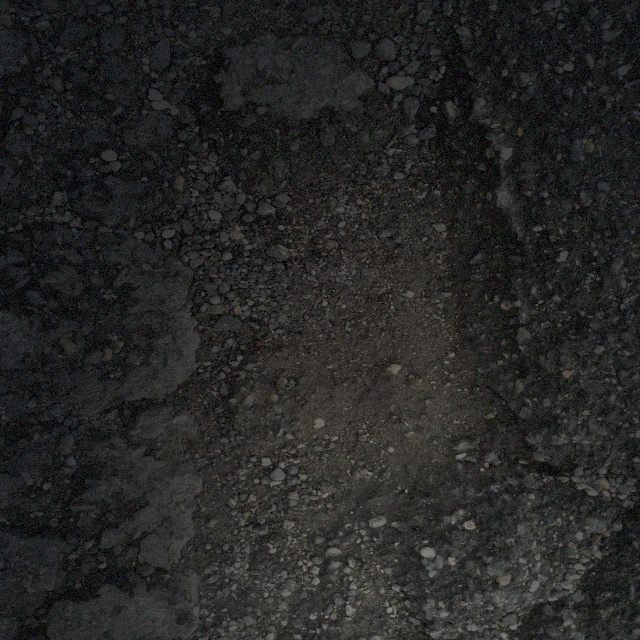pothole: (170, 61, 549, 528)
